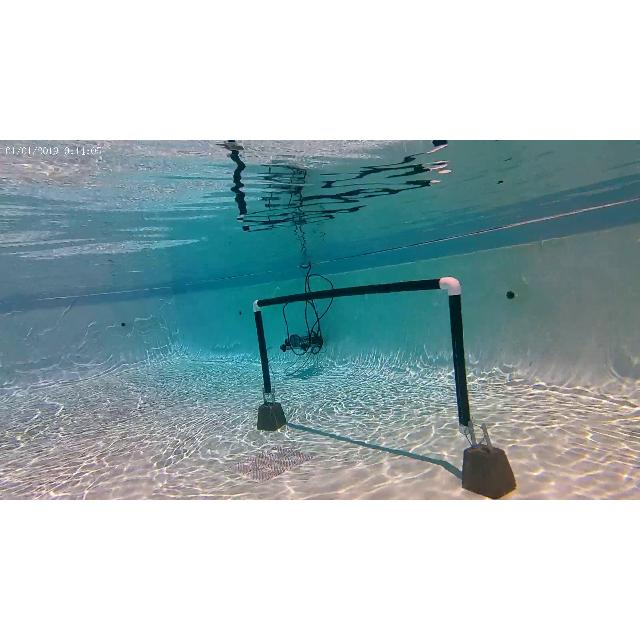prequal gate: (252, 276, 470, 438)
prequal gate leg l: (248, 298, 274, 404)
prequal gate leg r: (436, 275, 476, 431)
